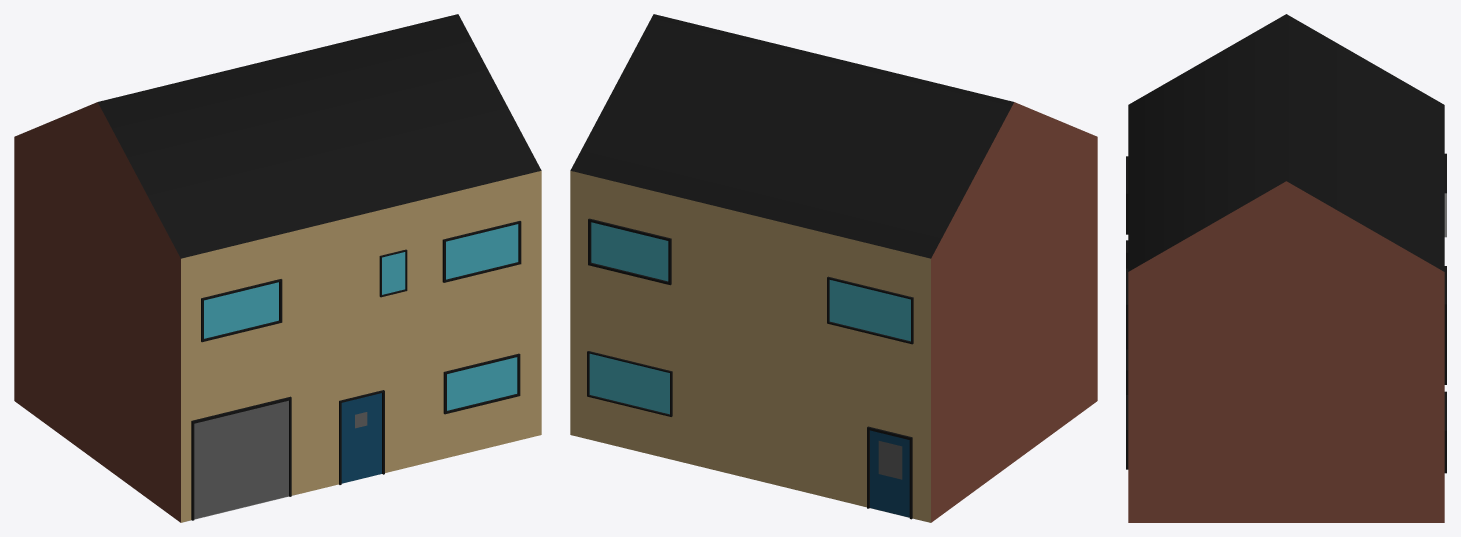
The model's file is MidHouse2.fbx.
3 views of the same model, side by side, from view 1: azimuth 30°, elevation 25°; view 2: azimuth 150°, elevation 25°; view 3: azimuth 270°, elevation 25° (orthographic). The views are drawn at different scales.
Visible parts, largest first — view 1: pCube1; view 2: pCube1; view 3: pCube1.
Part boxes in pixels (x1,y1,x2,y2): pCube1: [14, 14, 541, 522]; pCube1: [570, 14, 1097, 522]; pCube1: [1126, 14, 1446, 522].
Size of the model in its own units: 10 by 9.54 by 8.11.
